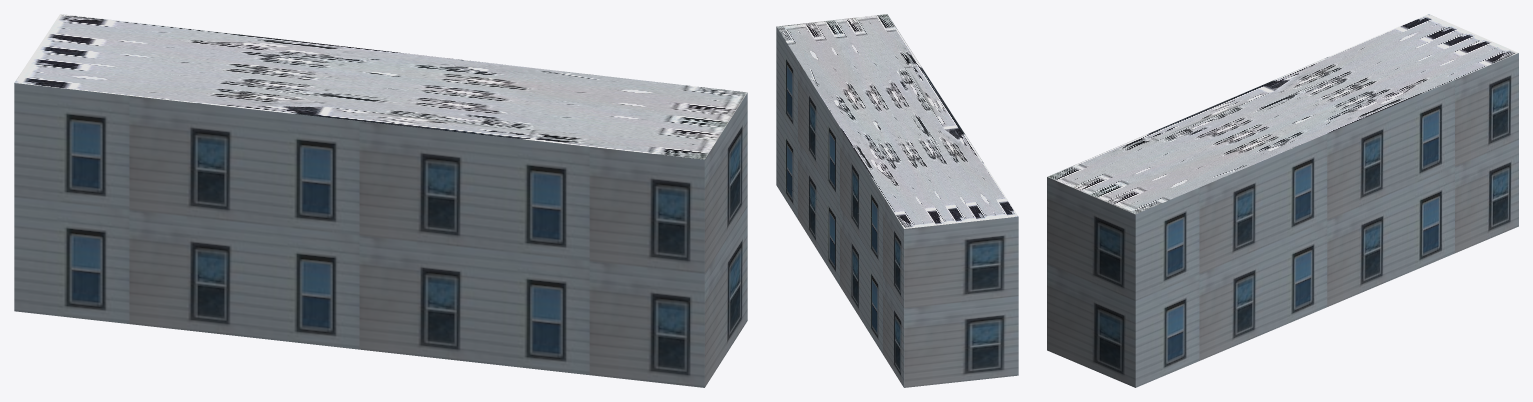
The model's file is ResTex__1781.fbx.
The picture shows the model from 3 angles, left to right: view 1: azimuth 30°, elevation 25°; view 2: azimuth 150°, elevation 25°; view 3: azimuth 270°, elevation 25°; orthographic projection. The views are drawn at different scales.
Visible parts, largest first — view 1: CityEngineMaterial_18_m, CityEngineMaterial_8_m; view 2: CityEngineMaterial_18_m, CityEngineMaterial_8_m; view 3: CityEngineMaterial_18_m, CityEngineMaterial_8_m.
Part boxes in pixels (x1,y1,x2,y2): CityEngineMaterial_18_m: (14, 83, 747, 387); CityEngineMaterial_8_m: (14, 14, 747, 159); CityEngineMaterial_18_m: (776, 26, 1018, 387); CityEngineMaterial_8_m: (776, 14, 1018, 228); CityEngineMaterial_18_m: (1047, 53, 1518, 387); CityEngineMaterial_8_m: (1047, 14, 1518, 214).
Bounding box in the file's own units: 14.87 × 6 × 14.79.
Materials: 2 (2 with a texture image).
